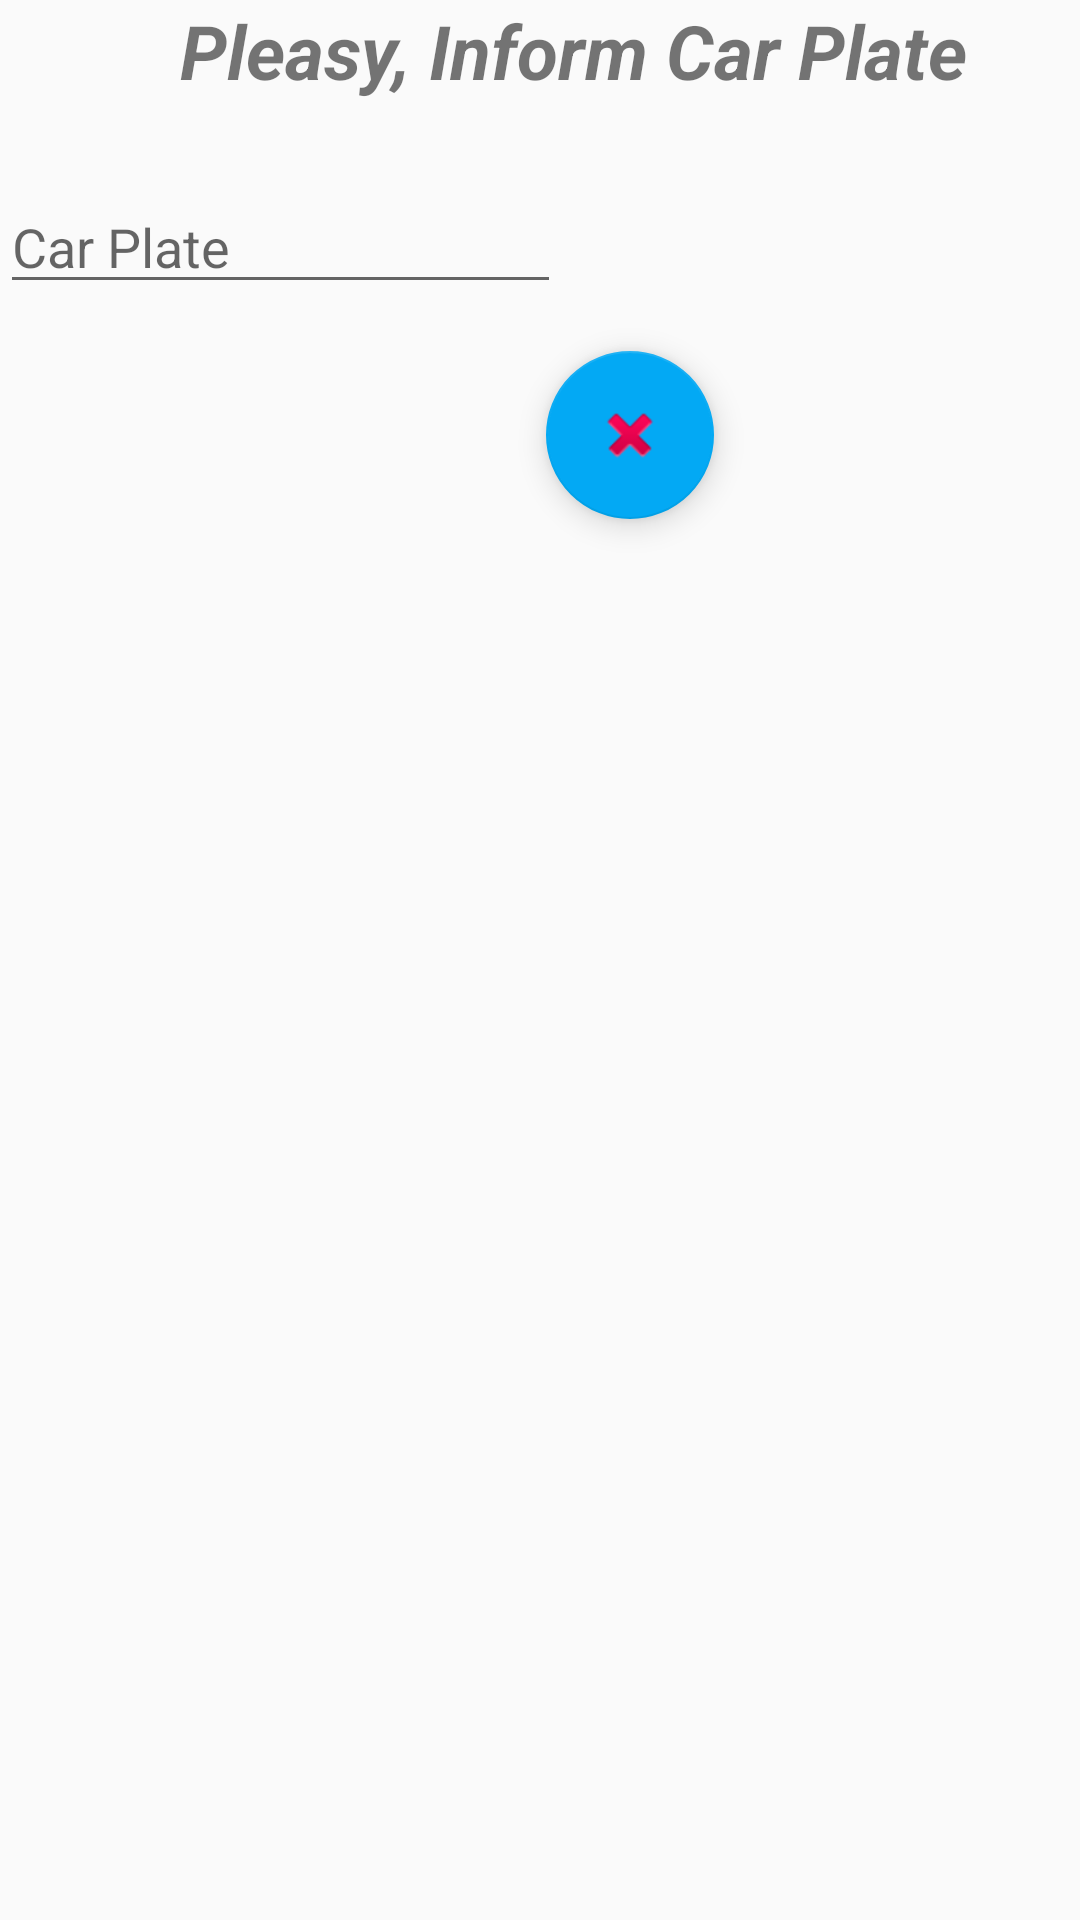

Icons on this 1080×1920 Android screen, each with the point to tap as point (x, y):
delete: point (630, 435)
